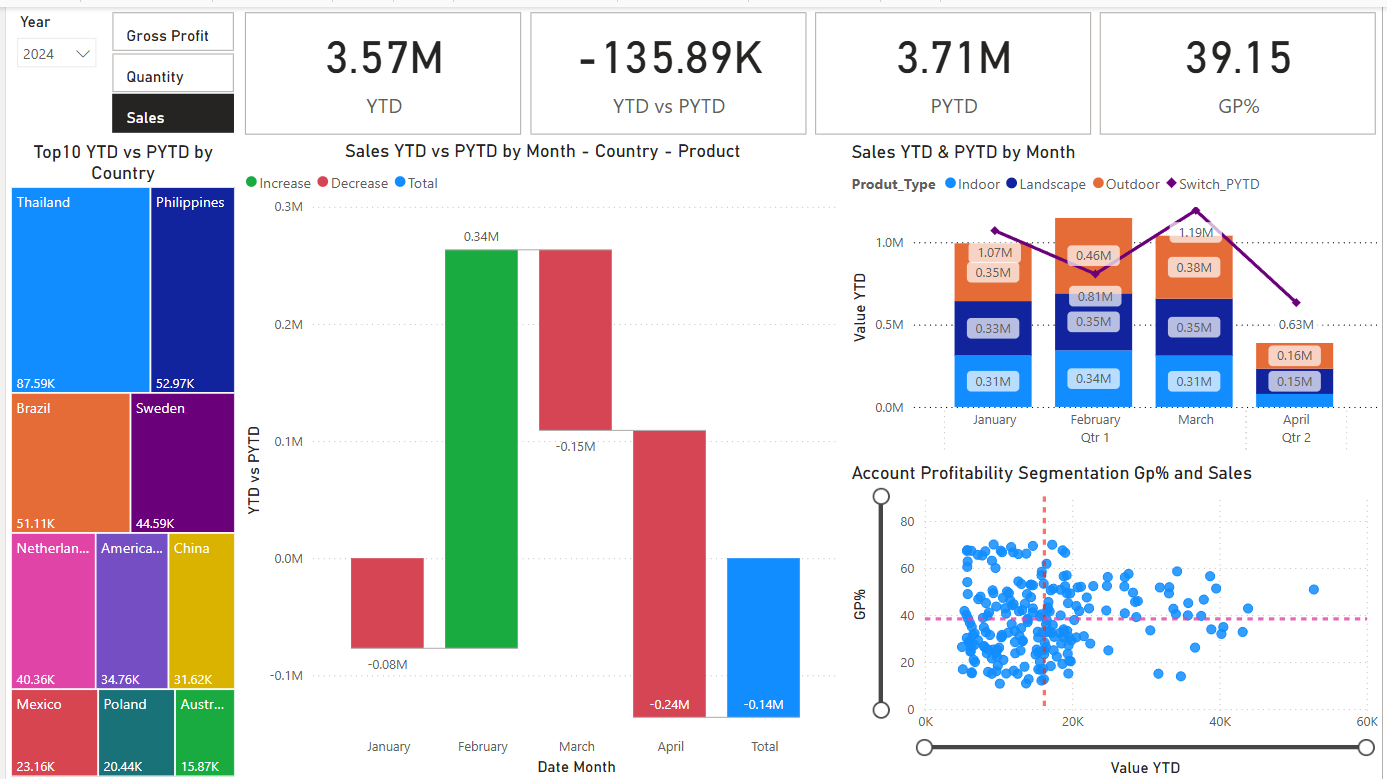

What the dashboard file says about the page in this screenshot:
{"tool":"powerbi","page":{"name":"Page 1","canvas":[1280,720],"ordinal":0},"visuals":[{"type":"cardVisual","fields":{"Data":["My_Measures.Switch_YTD","My_Measures.YTD vs PYTD","My_Measures.Switch_PYTD","My_Measures.GP%"]},"box":[217.7,0,1062.6,124.7],"z":0},{"type":"advancedSlicerVisual","fields":{"Values":["Slc_Values.Values"]},"box":[94.2,0,123.5,124.7],"z":1},{"type":"slicer","fields":{"Values":["Dim_Date.Date.Variation.Date Hierarchy.Year"]},"box":[0,0,94.2,124.7],"z":2},{"type":"waterfallChart","fields":{"Y":["My_Measures.YTD vs PYTD"],"Category":["Dim_Date.Date.Variation.Date Hierarchy.Month","Dim_Account.country","Dim_Product.Produt_Type","Dim_Product.Product_Name"]},"box":[217.7,123.5,563.7,596.7],"z":4},{"type":"lineStackedColumnComboChart","fields":{"Y":["My_Measures.Switch_YTD"],"Y2":["My_Measures.Switch_PYTD"],"Category":["Dim_Date.Date.Variation.Date Hierarchy.Quarter","Dim_Date.Date.Variation.Date Hierarchy.Month"],"Series":["Dim_Product.Produt_Type"]},"box":[781.3,124.1,499,298.6],"z":5},{"type":"treemap","title":"Top10 YTD vs PYTD by Country","fields":{"Values":["My_Measures.YTD vs PYTD"],"Group":["Dim_Account.country"]},"box":[0,124.1,218.2,595.8],"z":6},{"type":"scatterChart","fields":{"Y":["My_Measures.GP%"],"X":["My_Measures.Switch_YTD"],"Category":["Dim_Account.Account"]},"box":[781,423,499,297],"z":7}]}

Visuals, with their boxes in screenshot pixels (x1, y1, x2, y2), scaled from the page's 1280x720 canvas onto the 1387x779 screenshot:
cardVisual - My_Measures.Switch_YTD x My_Measures.YTD vs PYTD: [x1=236, y1=0, x2=1386, y2=135]
advancedSlicerVisual - Slc_Values.Values: [x1=102, y1=0, x2=236, y2=135]
slicer - Dim_Date.Date.Variation.Date Hierarchy.Year: [x1=0, y1=0, x2=102, y2=135]
waterfallChart - My_Measures.YTD vs PYTD x Dim_Date.Date.Variation.Date Hierarchy.Month: [x1=236, y1=134, x2=847, y2=778]
lineStackedColumnComboChart - My_Measures.Switch_YTD x My_Measures.Switch_PYTD: [x1=847, y1=134, x2=1386, y2=457]
"Top10 YTD vs PYTD by Country" treemap: [x1=0, y1=134, x2=236, y2=778]
scatterChart - My_Measures.GP% x My_Measures.Switch_YTD: [x1=846, y1=458, x2=1386, y2=778]
